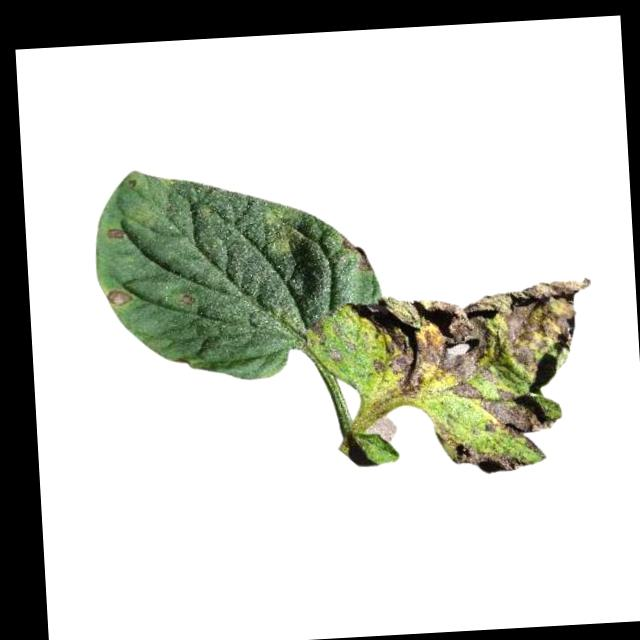Early_blight: (349, 275, 600, 457), (433, 417, 530, 481), (339, 230, 372, 272), (102, 285, 131, 308), (309, 317, 326, 343), (105, 226, 123, 239)
